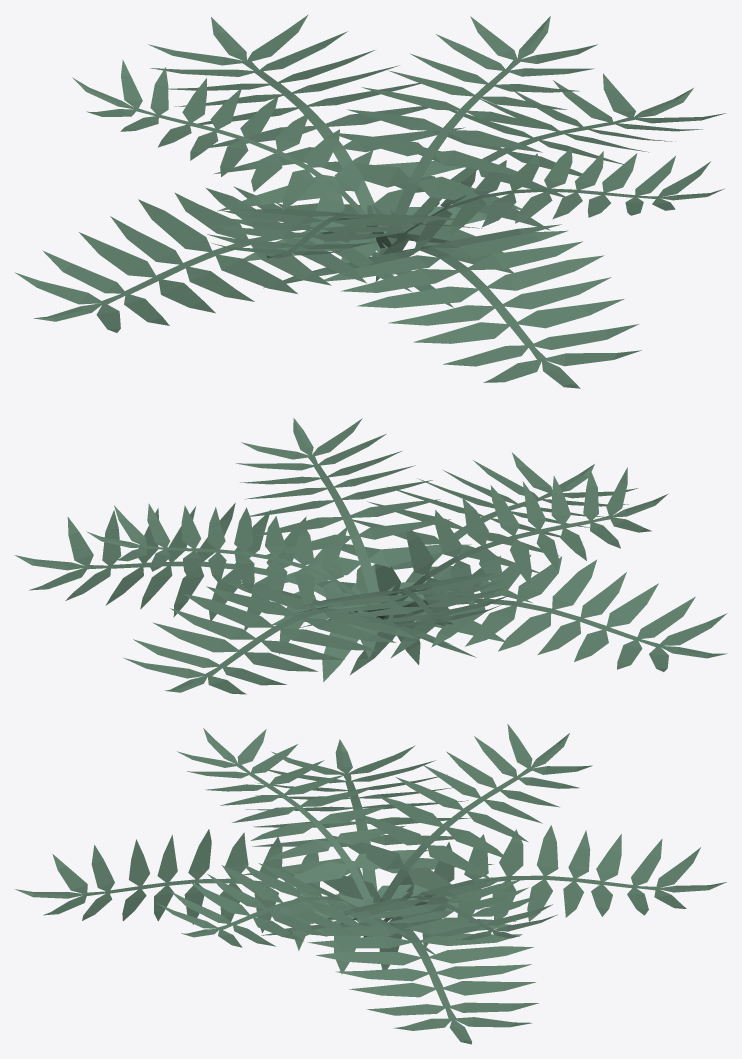
Rendered from plante3.fbx.
The picture shows the model from 3 angles, top to bottom: view 1: azimuth 30°, elevation 25°; view 2: azimuth 150°, elevation 25°; view 3: azimuth 270°, elevation 25°; orthographic projection. The views are drawn at different scales.
Parts seen in each view (by area): view 1: Plane.016; view 2: Plane.016; view 3: Plane.016.
Part boxes in pixels (box(x1,y1,x2,y2)): Plane.016: box(15, 14, 726, 388); Plane.016: box(14, 418, 727, 694); Plane.016: box(14, 724, 726, 1044).
Size of the model in its own units: 9655 by 1908 by 9760.
